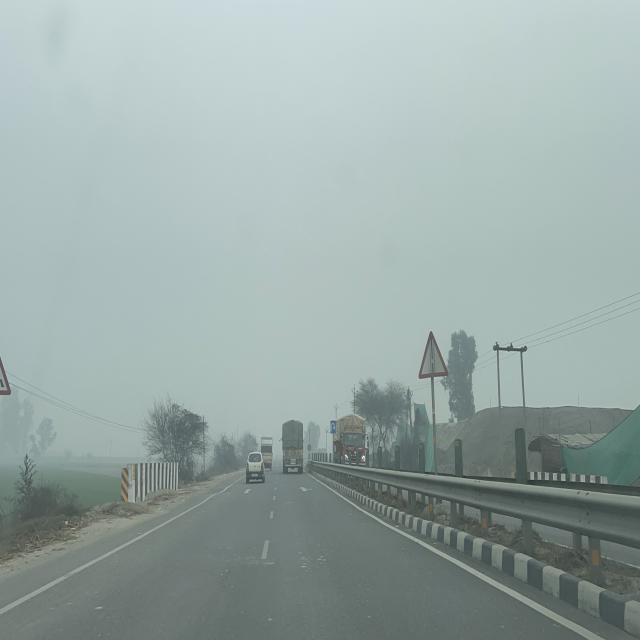GAP_IN_MEDIAN: (418, 332, 448, 381)
U_TURN: (330, 420, 336, 434)
